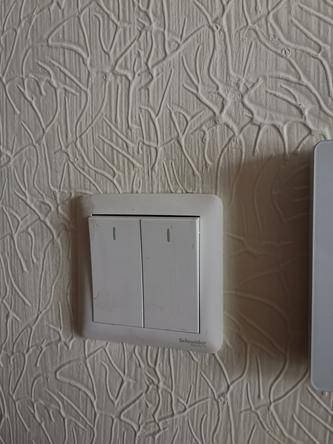switch: (131, 210, 204, 338), (86, 205, 145, 334)
